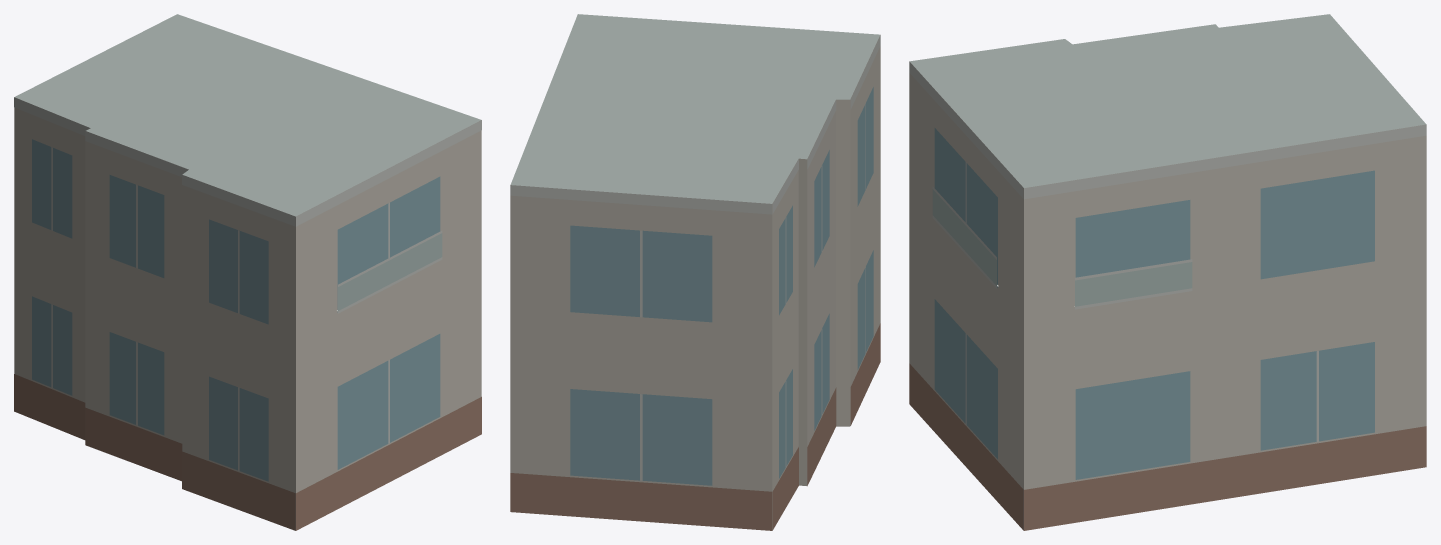
Rendered from survey-upis-32474685.glb.
3 renders of one model, left to right at view 1: azimuth 30°, elevation 25°; view 2: azimuth 150°, elevation 25°; view 3: azimuth 270°, elevation 25°, orthographic. The views are drawn at different scales.
Visible parts, largest first — view 1: survey-upis-32474685.tmp; view 2: survey-upis-32474685.tmp; view 3: survey-upis-32474685.tmp.
Part boxes in pixels (x1,y1,x2,y2): survey-upis-32474685.tmp: (14,14,481,530); survey-upis-32474685.tmp: (510,14,880,530); survey-upis-32474685.tmp: (909,14,1426,530).
Bounding box in the file's own units: 8.18 × 7.5 × 10.27.
